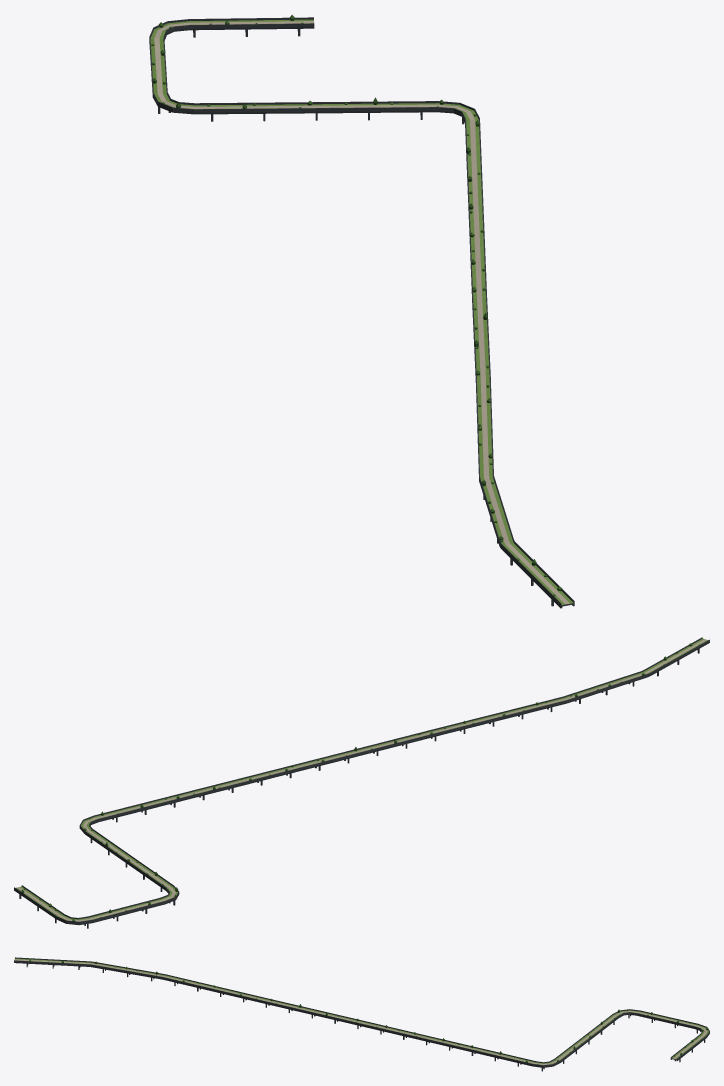
The picture shows the model from 3 angles, top to bottom: view 1: azimuth 30°, elevation 25°; view 2: azimuth 150°, elevation 25°; view 3: azimuth 270°, elevation 25°; orthographic projection. The views are drawn at different scales.
Parts seen in each view (by area): view 1: high-line-lod1; view 2: high-line-lod1; view 3: high-line-lod1.
Boxes of the visible parts, x1=… form: high-line-lod1: x1=149, y1=15, x2=574, y2=608; high-line-lod1: x1=14, y1=637, x2=709, y2=928; high-line-lod1: x1=14, y1=957, x2=709, y2=1071.
Bounding box in the file's own units: 682 × 26.98 × 1857.
